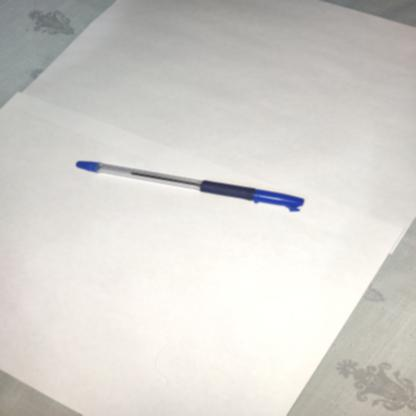Pen: (71, 146, 304, 220)
